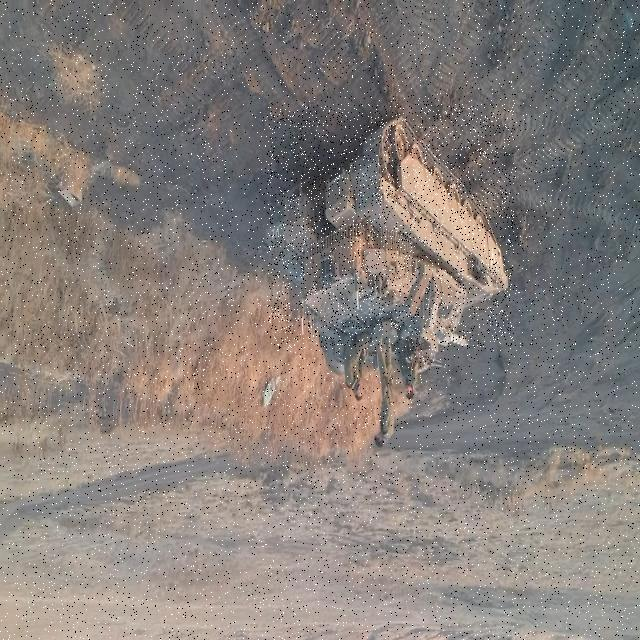MIL_MBT: (267, 104, 514, 351)
